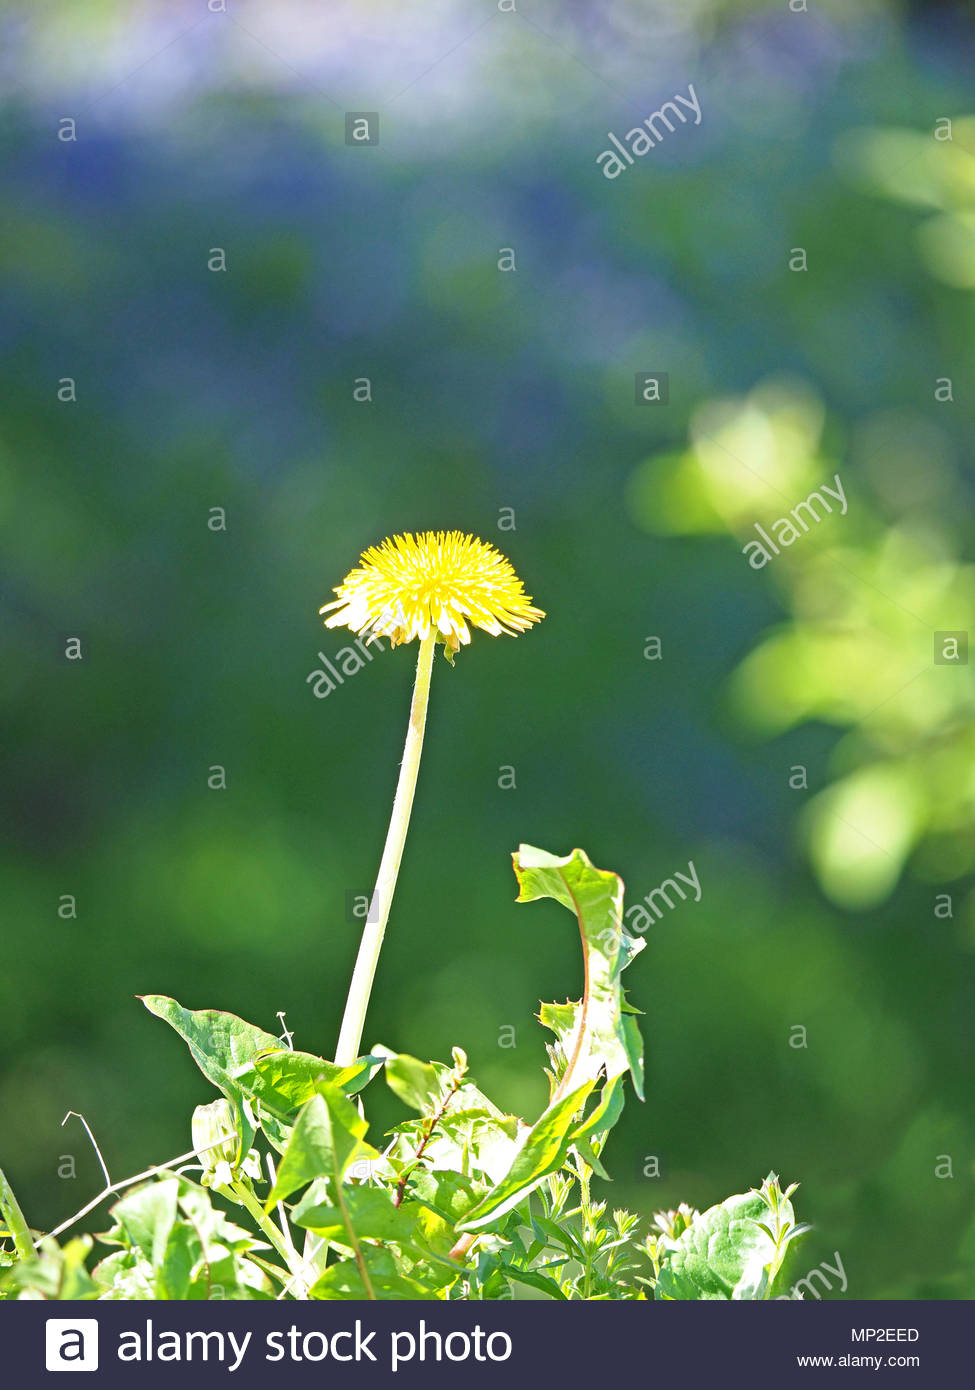dandelion: (311, 521, 550, 652)
